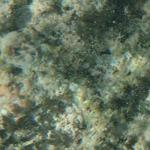dead: (9, 6, 148, 148)
